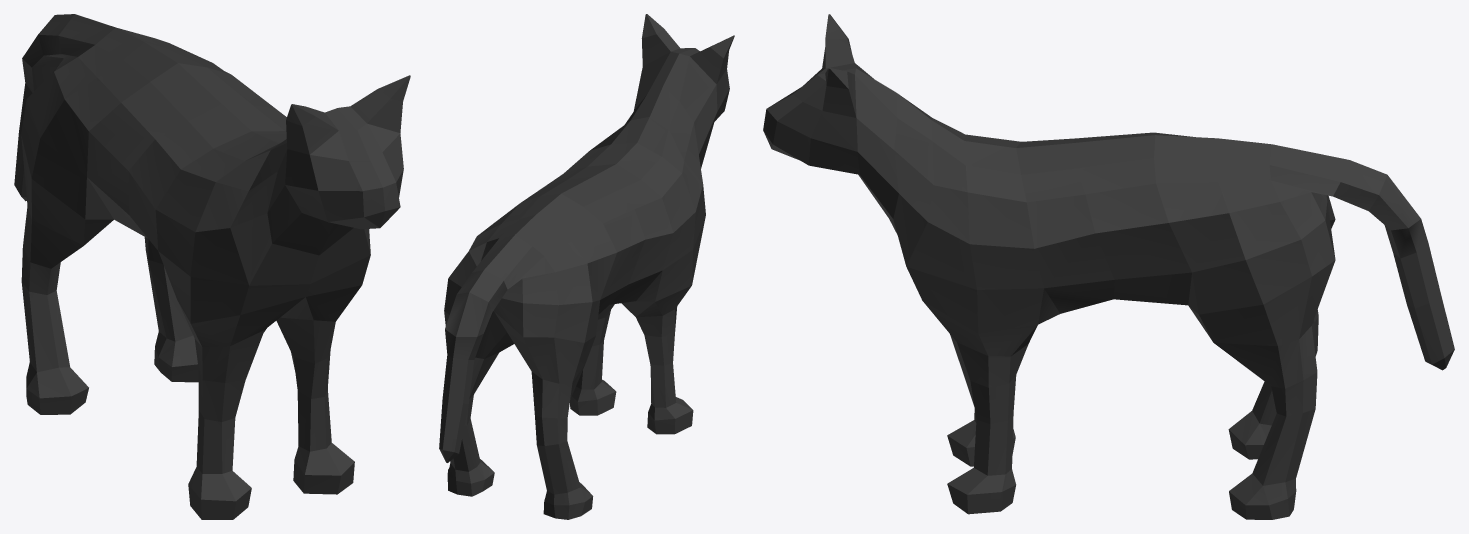
The model's file is Cat.fbx.
3 views of the same model, side by side, from view 1: azimuth 30°, elevation 25°; view 2: azimuth 150°, elevation 25°; view 3: azimuth 270°, elevation 25° (orthographic). The views are drawn at different scales.
Visible parts, largest first — view 1: Cat; view 2: Cat; view 3: Cat.
Part boxes in pixels (box(x1,y1,x2,y2)): Cat: box(14, 14, 410, 519); Cat: box(439, 14, 734, 519); Cat: box(763, 14, 1454, 519).
Bounding box in the file's own units: 21.05 × 51.1 × 73.07.
